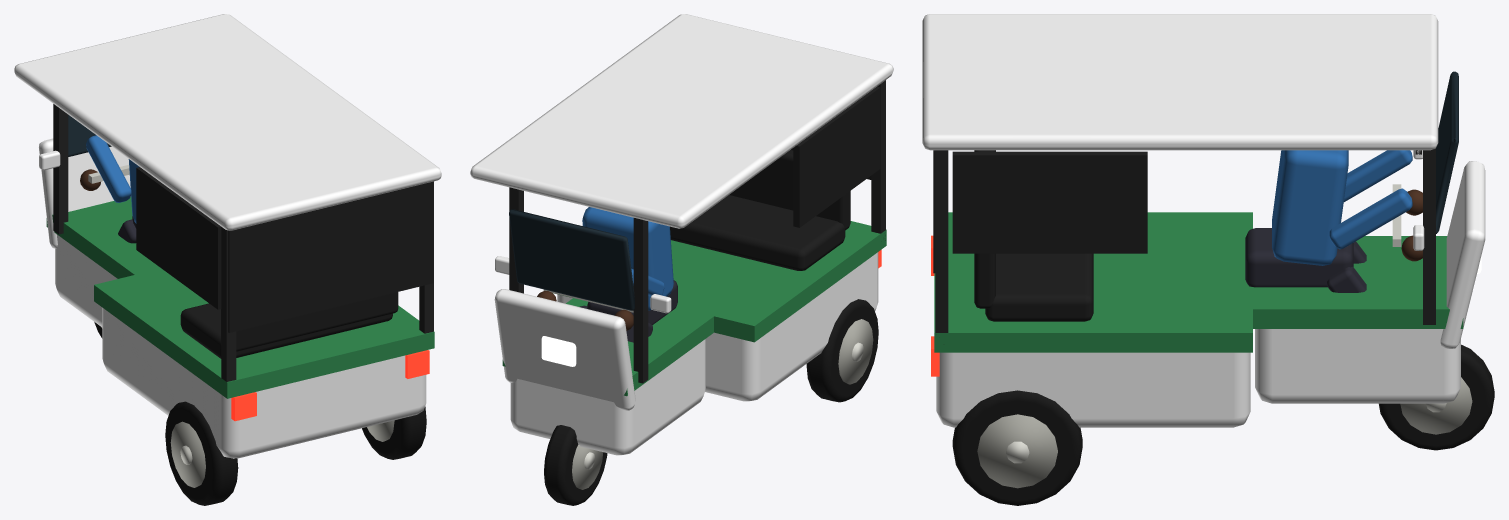
Rendered from keke.glb.
3 renders of one model, left to right at view 1: azimuth 30°, elevation 25°; view 2: azimuth 150°, elevation 25°; view 3: azimuth 270°, elevation 25°, orthographic. The views are drawn at different scales.
Visible parts, largest first — view 1: keke; view 2: keke; view 3: keke.
Part boxes in pixels (x1,y1,x2,y2): keke: [14, 14, 441, 505]; keke: [470, 14, 893, 505]; keke: [922, 14, 1494, 505].
Size of the model in its own units: 1.41 by 1.9 by 2.64.
